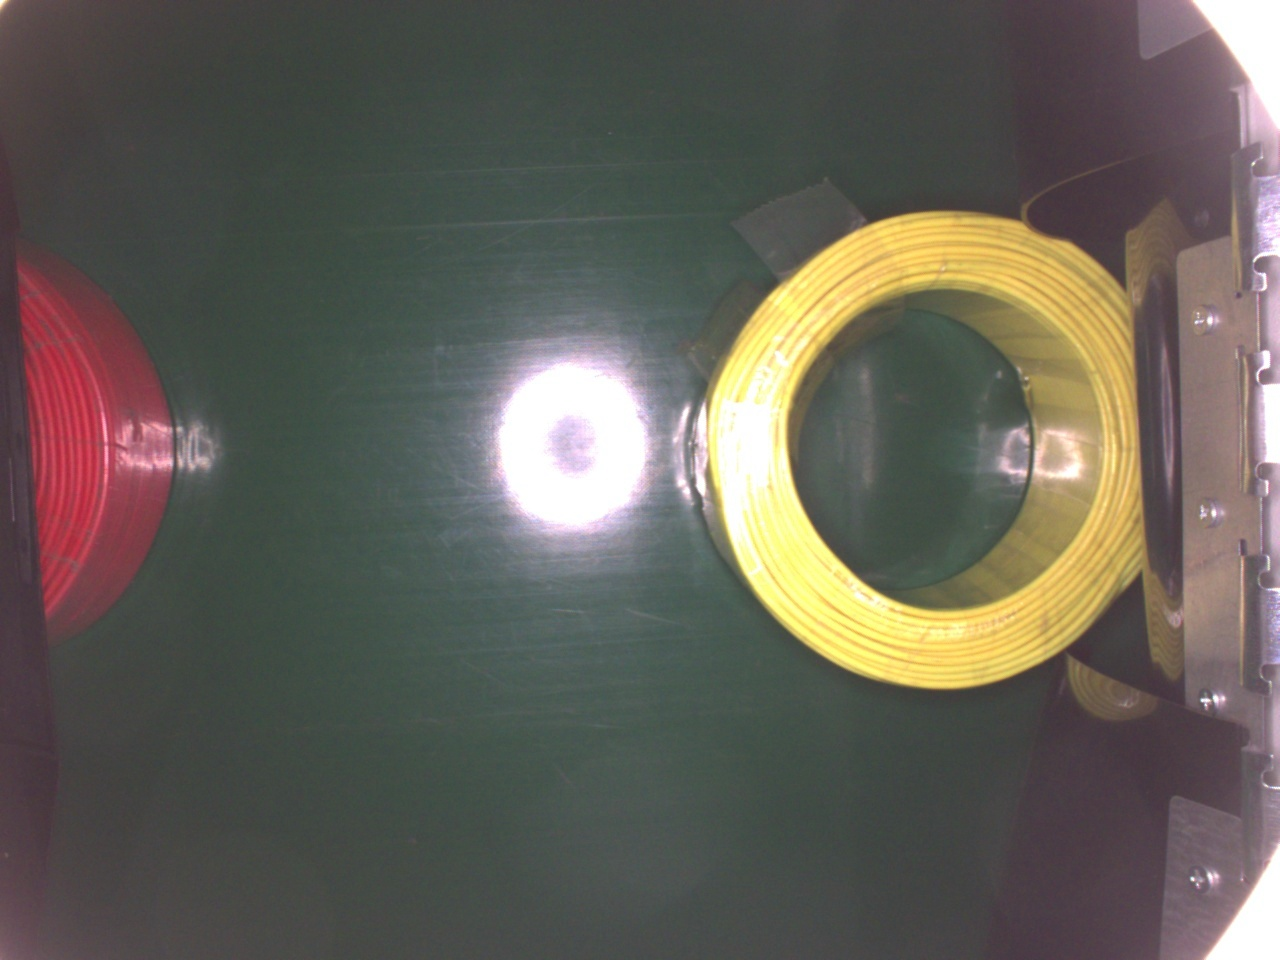red: (15, 226, 181, 646)
yellow: (678, 209, 1142, 692)
